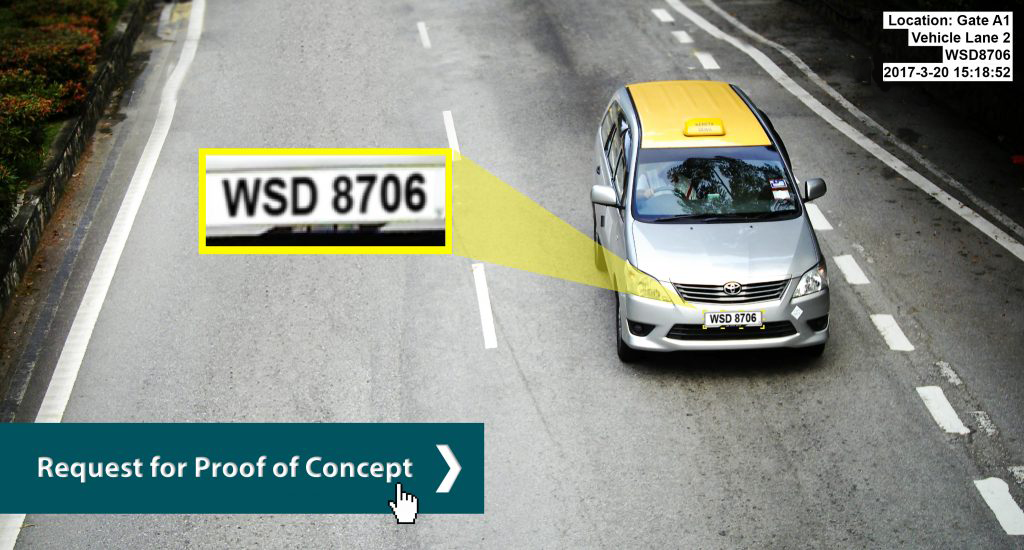license plate: (700, 310, 763, 328)
